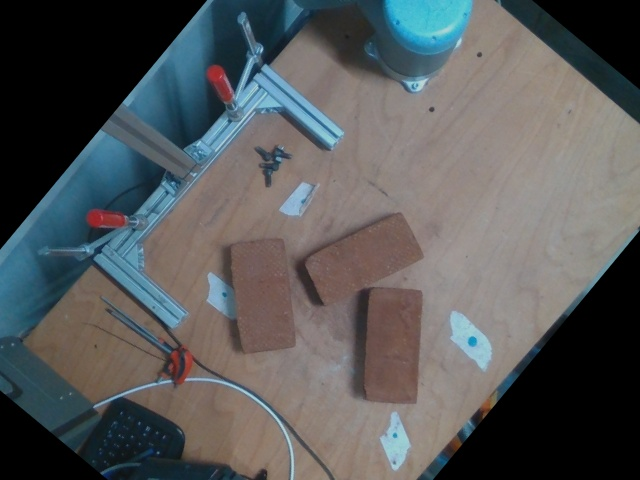brick: (303, 214, 422, 305), (228, 238, 297, 354), (364, 289, 420, 403)
